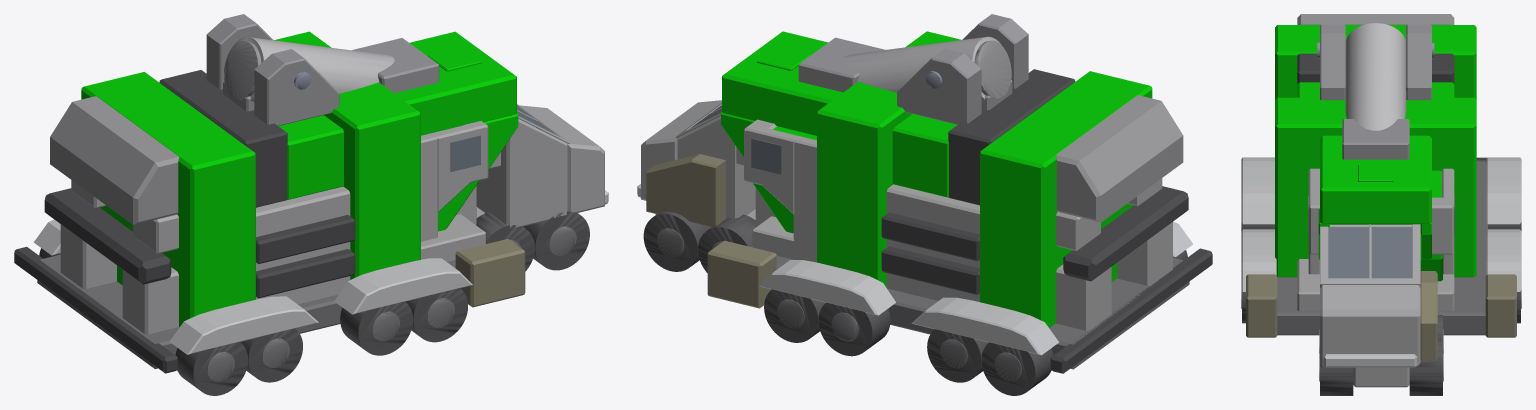
The model's file is mobile-war-factory.glb.
3 renders of one model, left to right at view 1: azimuth 30°, elevation 25°; view 2: azimuth 150°, elevation 25°; view 3: azimuth 270°, elevation 25°, orthographic. The views are drawn at different scales.
Visible parts, largest first — view 1: green_block, green_block_2, rear_hatch, cab, roof, middle_bar, rear_rail, fender, crane_bracket, middle, fender_2, middle_top (+32 smaller); view 2: green_block, green_block_2, rear_hatch, roof, middle_bar, nose_box, rear_rail, middle, fender_3, crane_bracket_2, fender_4, middle_top (+33 smaller); view 3: green_block_2, roof, bonnet, tube, chassis, green_block, windscreen, crane_support, fender_3, fender, olive_box, olive_box_2 (+25 smaller).
Boxes of the visible parts, x1,y1,x2,y2 form: green_block: [81, 72, 255, 326]; green_block_2: [274, 31, 420, 279]; rear_hatch: [50, 96, 179, 224]; cab: [476, 119, 567, 227]; roof: [394, 31, 516, 135]; middle_bar: [159, 70, 287, 207]; rear_rail: [44, 188, 171, 284]; fender: [169, 296, 318, 354]; crane_bracket: [254, 49, 339, 125]; middle: [256, 186, 350, 304]; fender_2: [334, 258, 472, 314]; middle_top: [278, 115, 343, 199]; green_block: [980, 71, 1152, 327]; green_block_2: [817, 31, 961, 287]; rear_hatch: [1055, 95, 1183, 222]; roof: [722, 31, 842, 135]; middle_bar: [948, 69, 1075, 205]; nose_box: [646, 154, 725, 227]; rear_rail: [1063, 186, 1188, 281]; middle: [886, 184, 979, 301]; fender_3: [911, 297, 1059, 355]; crane_bracket_2: [897, 48, 981, 124]; fender_4: [759, 260, 895, 315]; middle_top: [892, 114, 956, 197]; green_block_2: [1275, 97, 1476, 277]; roof: [1320, 135, 1431, 224]; bonnet: [1320, 285, 1420, 366]; tube: [1345, 23, 1406, 130]; chassis: [1277, 160, 1487, 335]; green_block: [1275, 25, 1476, 99]; windscreen: [1328, 227, 1412, 278]; crane_support: [1342, 119, 1409, 159]; fender_3: [1486, 157, 1521, 224]; fender: [1241, 157, 1274, 224]; olive_box: [1246, 274, 1277, 337]; olive_box_2: [1485, 274, 1516, 337].
Size of the model in its own units: 1.44 by 0.7728 by 0.7907.
